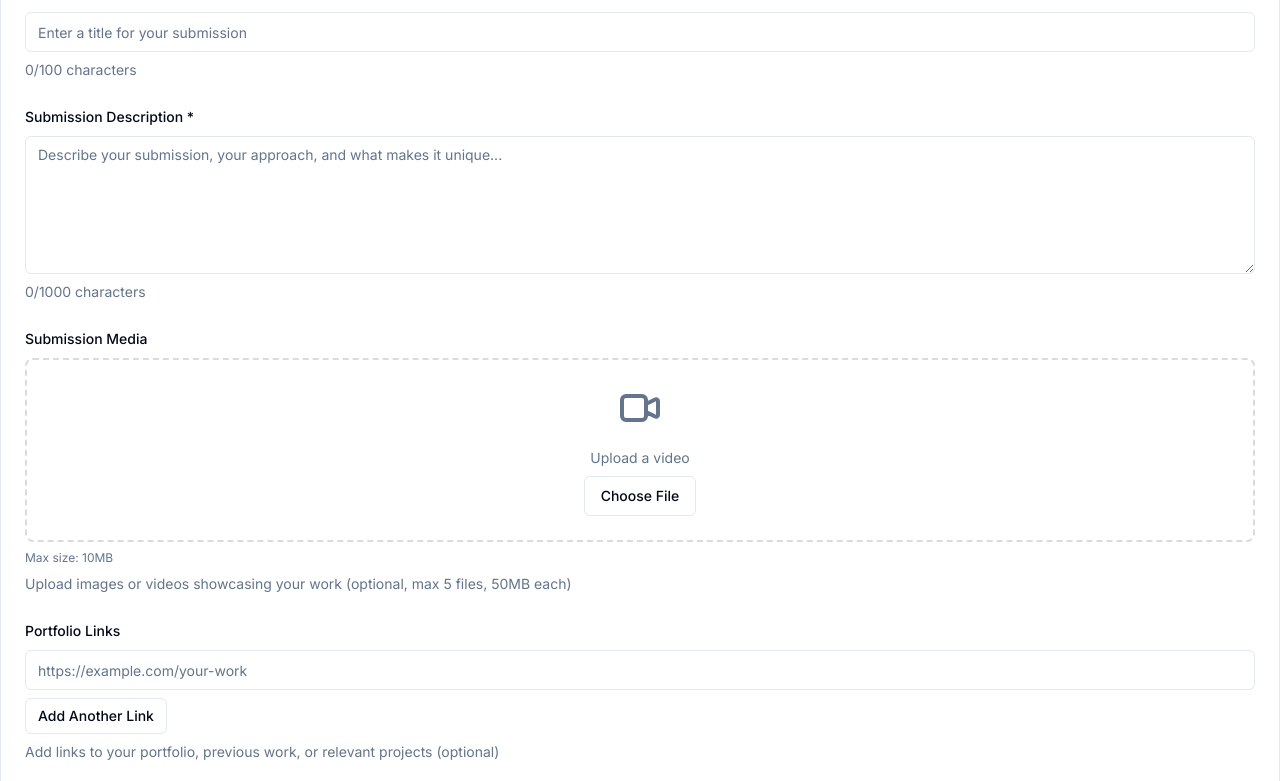
it: Participation System › ParticipationForm › validates required fields
Note: Fill in title only
Type "Test Title" into the field labelled "Submission Title *" at (640, 32), box [25, 12, 1255, 52]
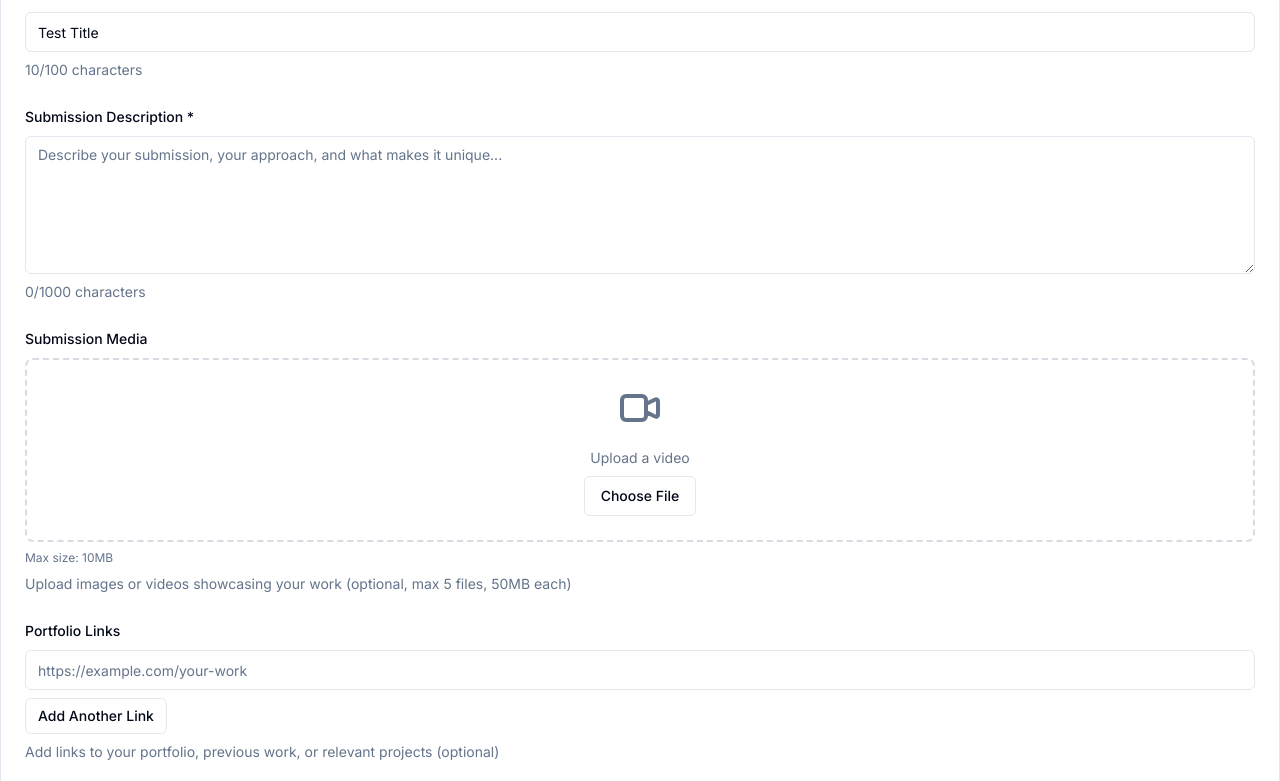
Note: Fill in description
Replace the text in the text box labelled "Submission Description *" with "Test description that is long enough" at (640, 205), box [25, 136, 1255, 274]
(page scrolled)
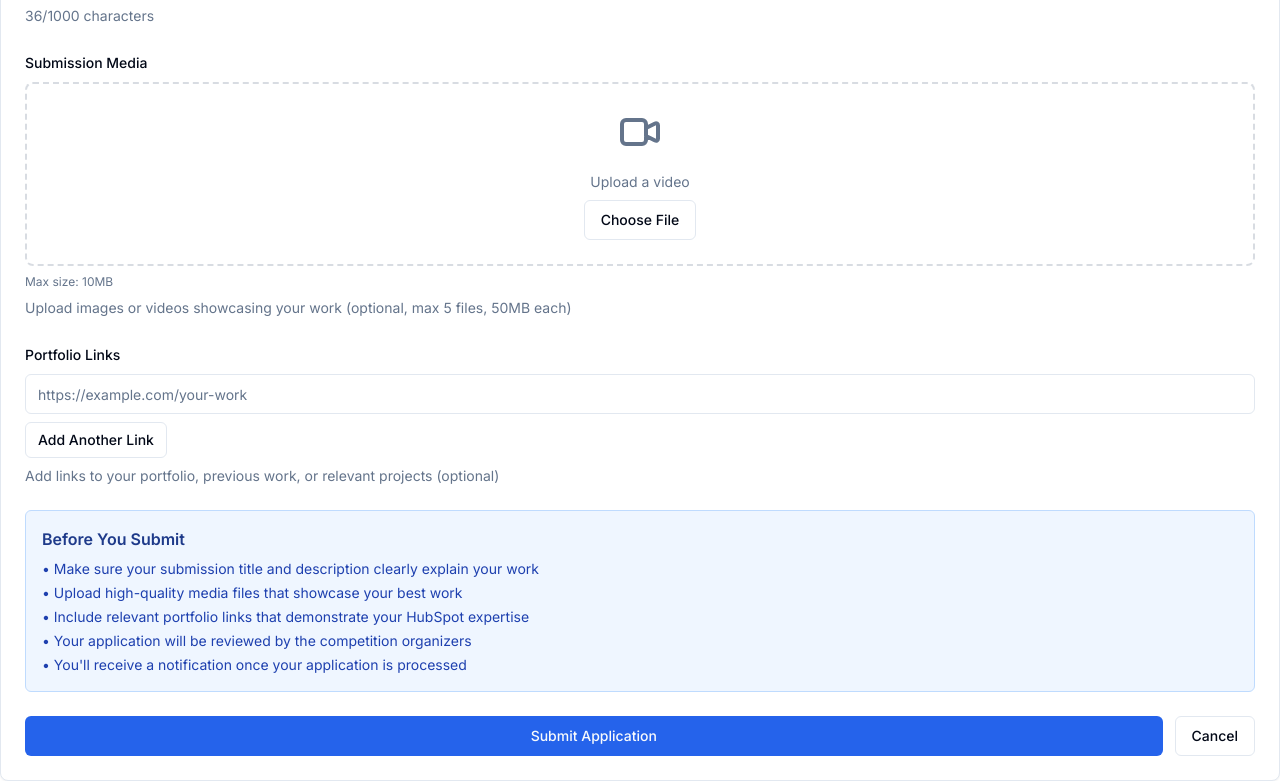
Result: the button "Submit Application" is enabled at [25, 716, 1162, 756]
